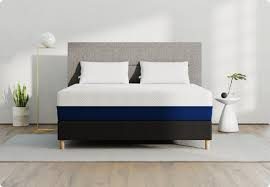bed-matress: (57, 81, 213, 121)
